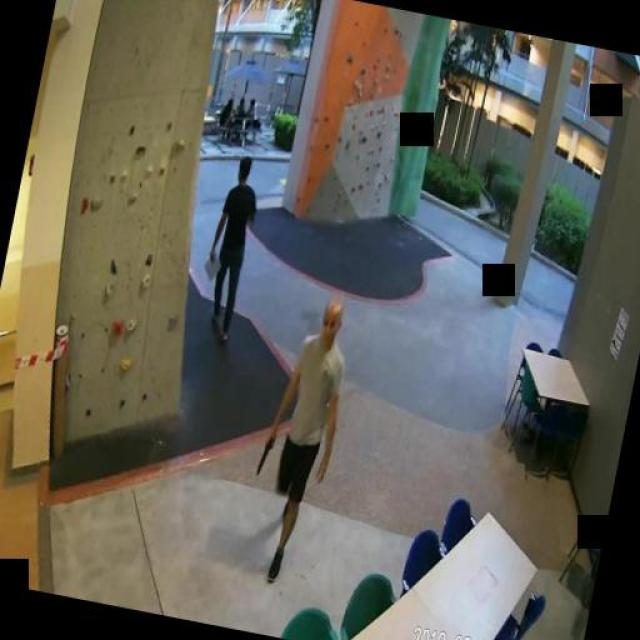gun: (256, 430, 276, 474)
